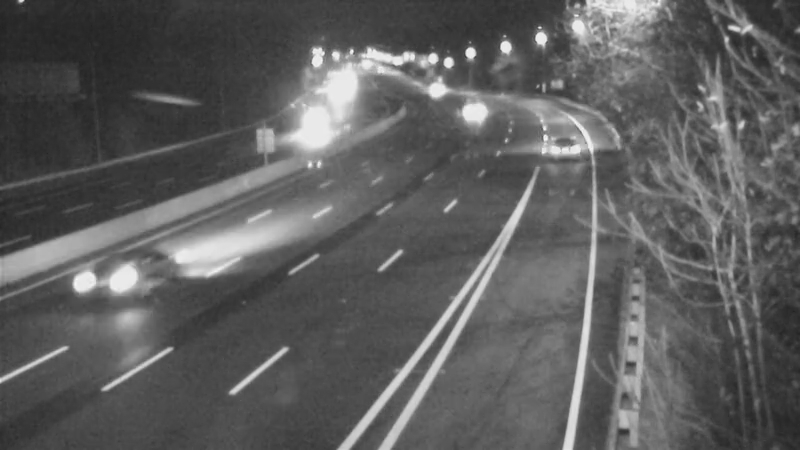vehicle: (78, 240, 158, 320), (409, 66, 459, 116), (446, 90, 496, 140), (540, 119, 590, 169), (296, 98, 346, 148), (312, 68, 362, 118)
